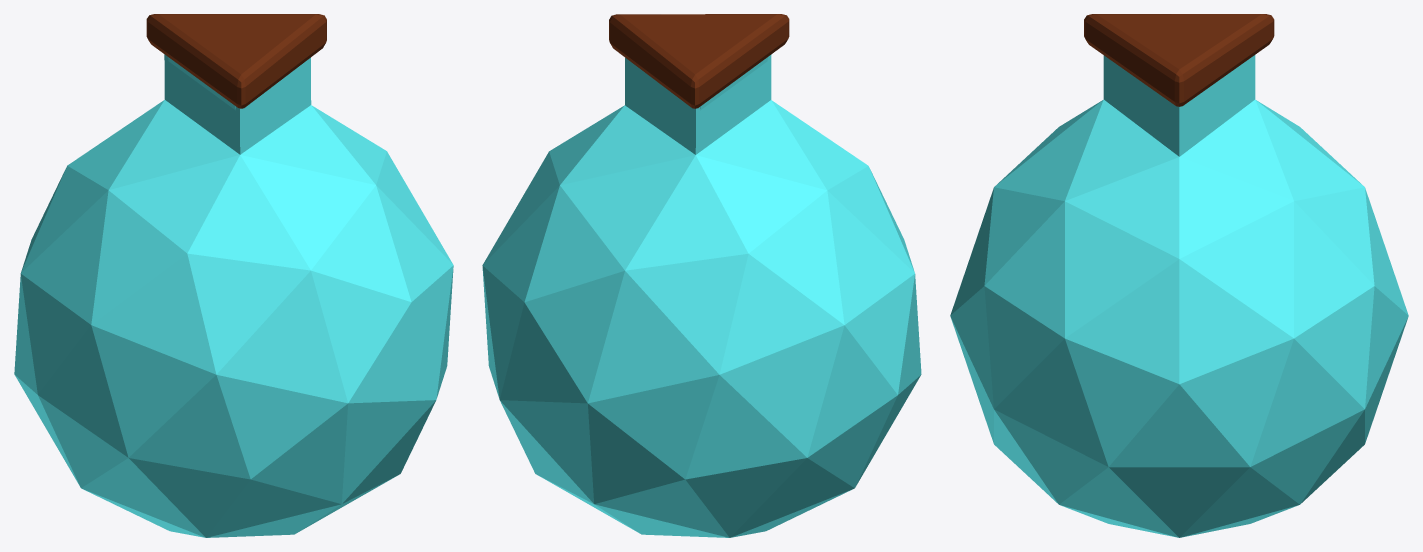
The model's file is isohedron flask.glb.
The picture shows the model from 3 angles, left to right: view 1: azimuth 30°, elevation 25°; view 2: azimuth 150°, elevation 25°; view 3: azimuth 270°, elevation 25°; orthographic projection.
Visible parts, largest first — view 1: glass, cap; view 2: glass, cap; view 3: glass, cap.
Part boxes in pixels (box(x1,y1,x2,y2)): glass: box(14, 54, 453, 537); cap: box(146, 14, 326, 108); glass: box(482, 54, 921, 537); cap: box(609, 14, 789, 108); glass: box(950, 55, 1408, 537); cap: box(1084, 14, 1274, 106).
Bounding box in the file's own units: 6.46 × 7.58 × 6.52.
